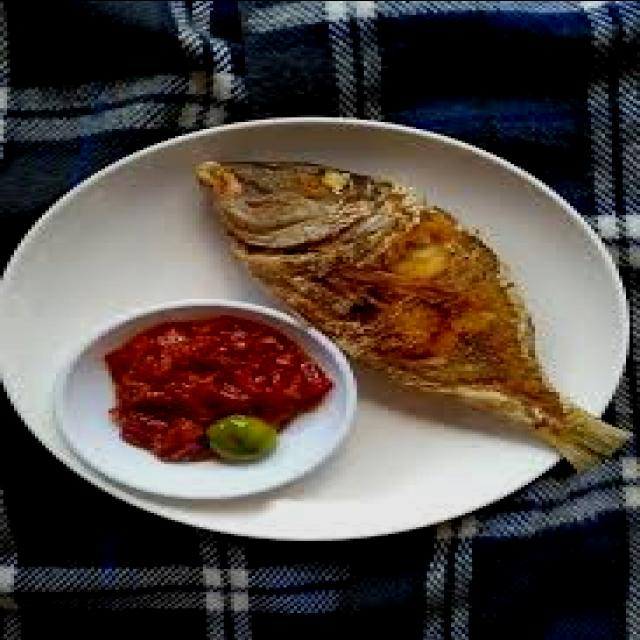ikan goreng: (192, 158, 630, 472)
